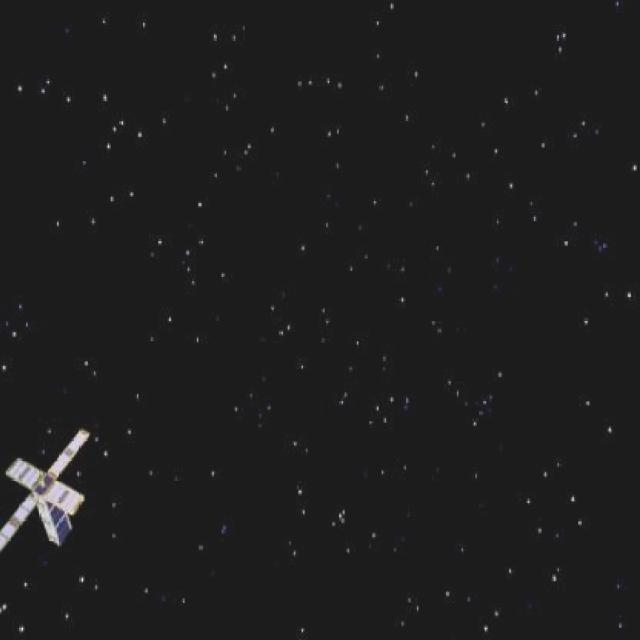satellite: (0, 426, 100, 554)
